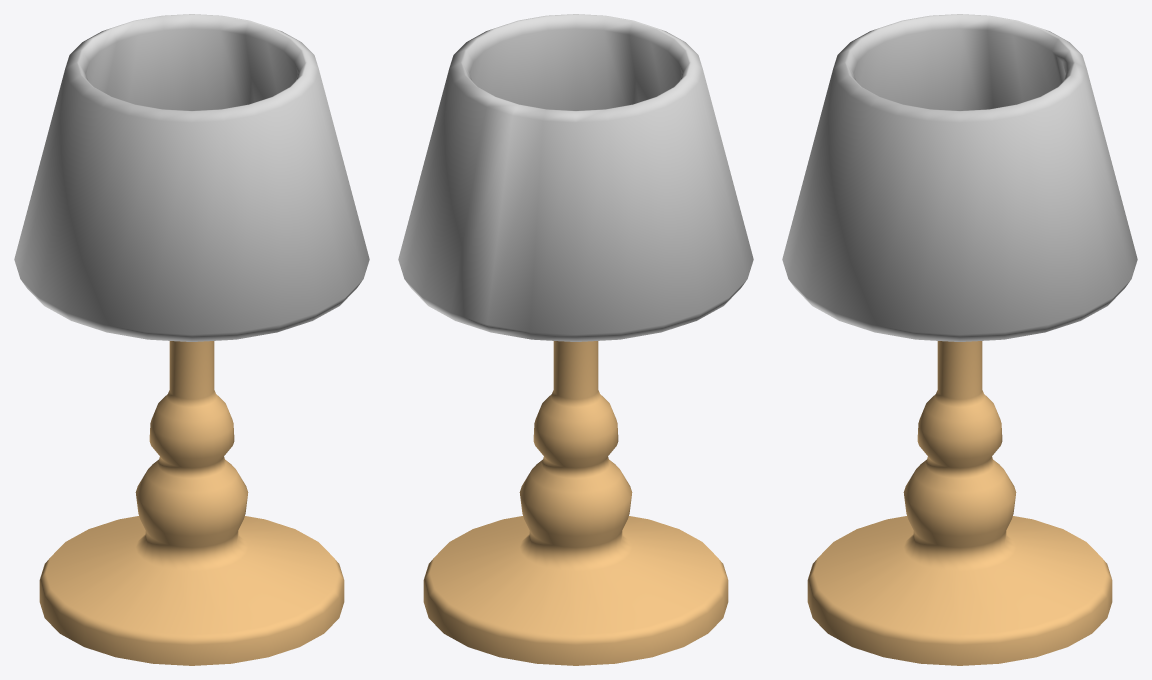
Rendered from Lamp.fbx.
The picture shows the model from 3 angles, left to right: view 1: azimuth 30°, elevation 25°; view 2: azimuth 150°, elevation 25°; view 3: azimuth 270°, elevation 25°; orthographic projection.
Parts seen in each view (by area): view 1: Circle.004, Circle.002; view 2: Circle.004, Circle.002; view 3: Circle.004, Circle.002.
Boxes of the visible parts, x1,y1,x2,y2 form: Circle.004: (14,14,369,341); Circle.002: (39,341,344,665); Circle.004: (398,14,753,341); Circle.002: (423,341,728,665); Circle.004: (782,14,1137,341); Circle.002: (807,341,1112,665).
Size of the model in its own units: 48.02 by 80.31 by 48.02.
